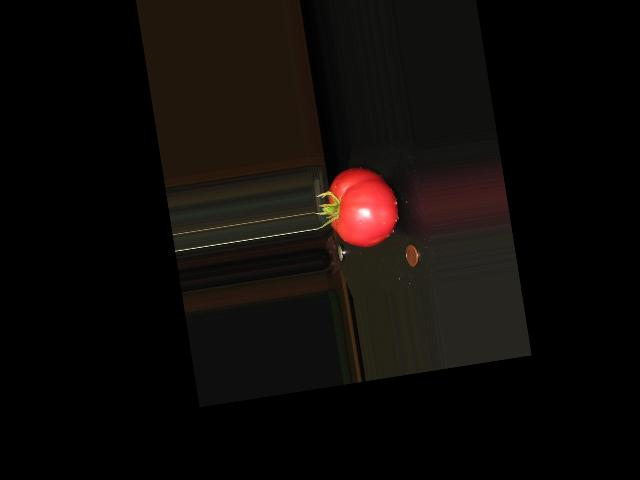tomato: (323, 161, 403, 251)
